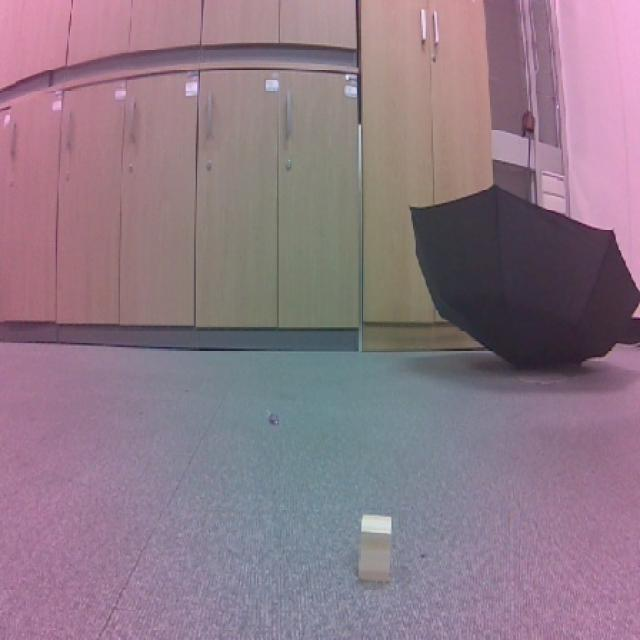obstacle: (349, 502, 402, 587)
